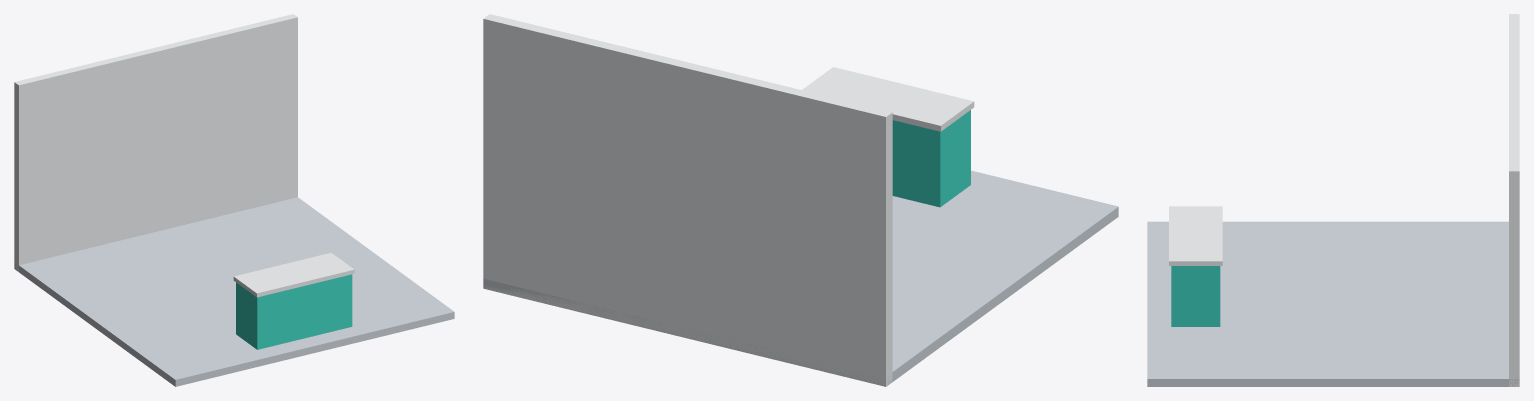
3 renders of one model, left to right at view 1: azimuth 30°, elevation 25°; view 2: azimuth 150°, elevation 25°; view 3: azimuth 270°, elevation 25°, orthographic. The views are drawn at different scales.
Visible parts, largest first — view 1: Exhibition Booth Concept; view 2: Exhibition Booth Concept; view 3: Exhibition Booth Concept.
Part boxes in pixels (<box>): Exhibition Booth Concept: <box>14,14,454,386</box>; Exhibition Booth Concept: <box>483,14,1118,386</box>; Exhibition Booth Concept: <box>1147,14,1519,386</box>.
Bounding box in the file's own units: 5 × 3.2 × 5.
